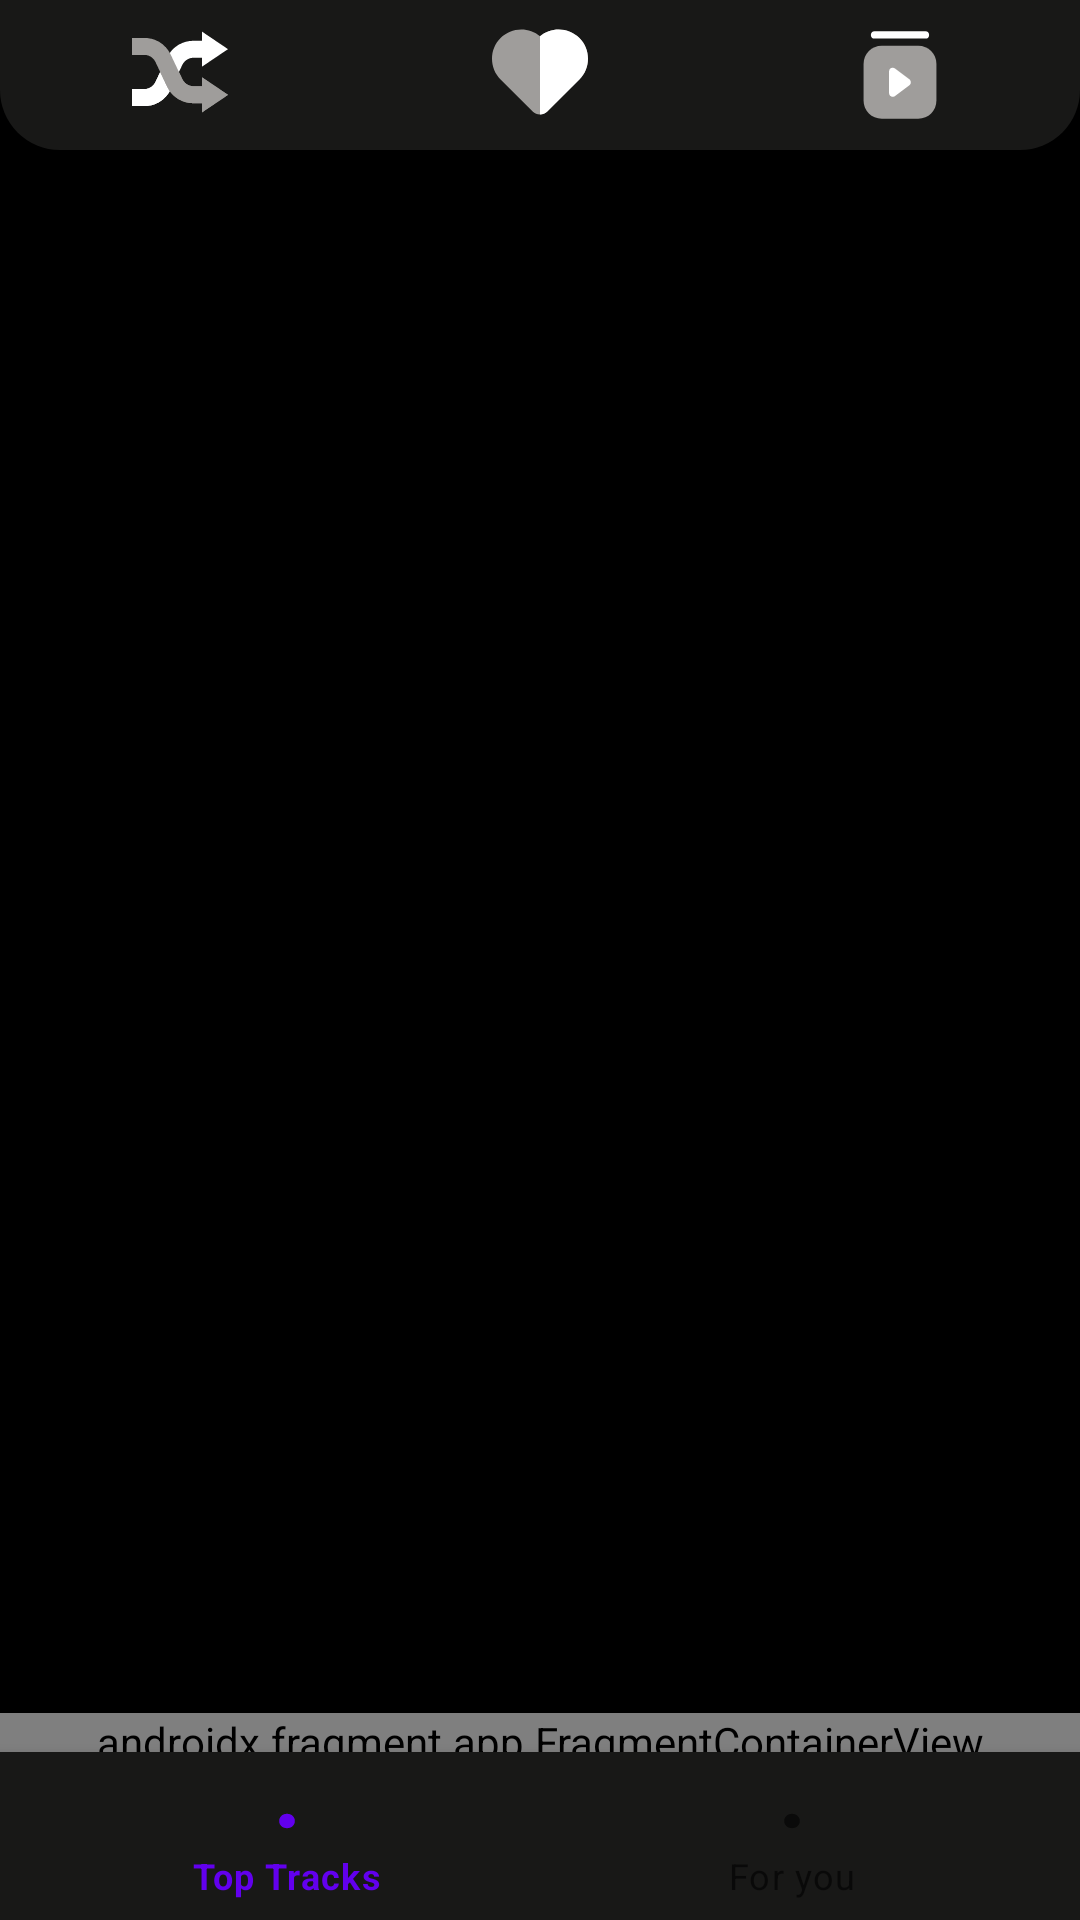

Screen size 1080px x 1920px. Icon name, then its center in pixels as (x=x, y=y):
Favourites: (x=540, y=72)
Playlist: (x=900, y=75)
Shuffle: (x=180, y=72)
